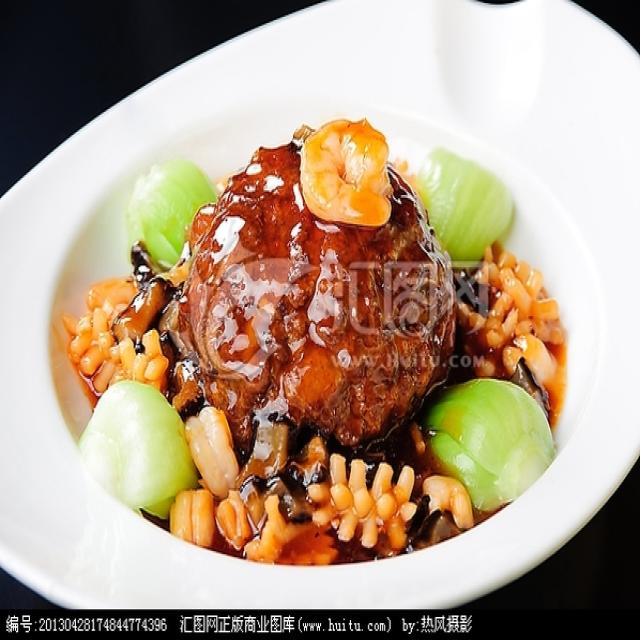猪肉菜式: (9, 9, 636, 586)
